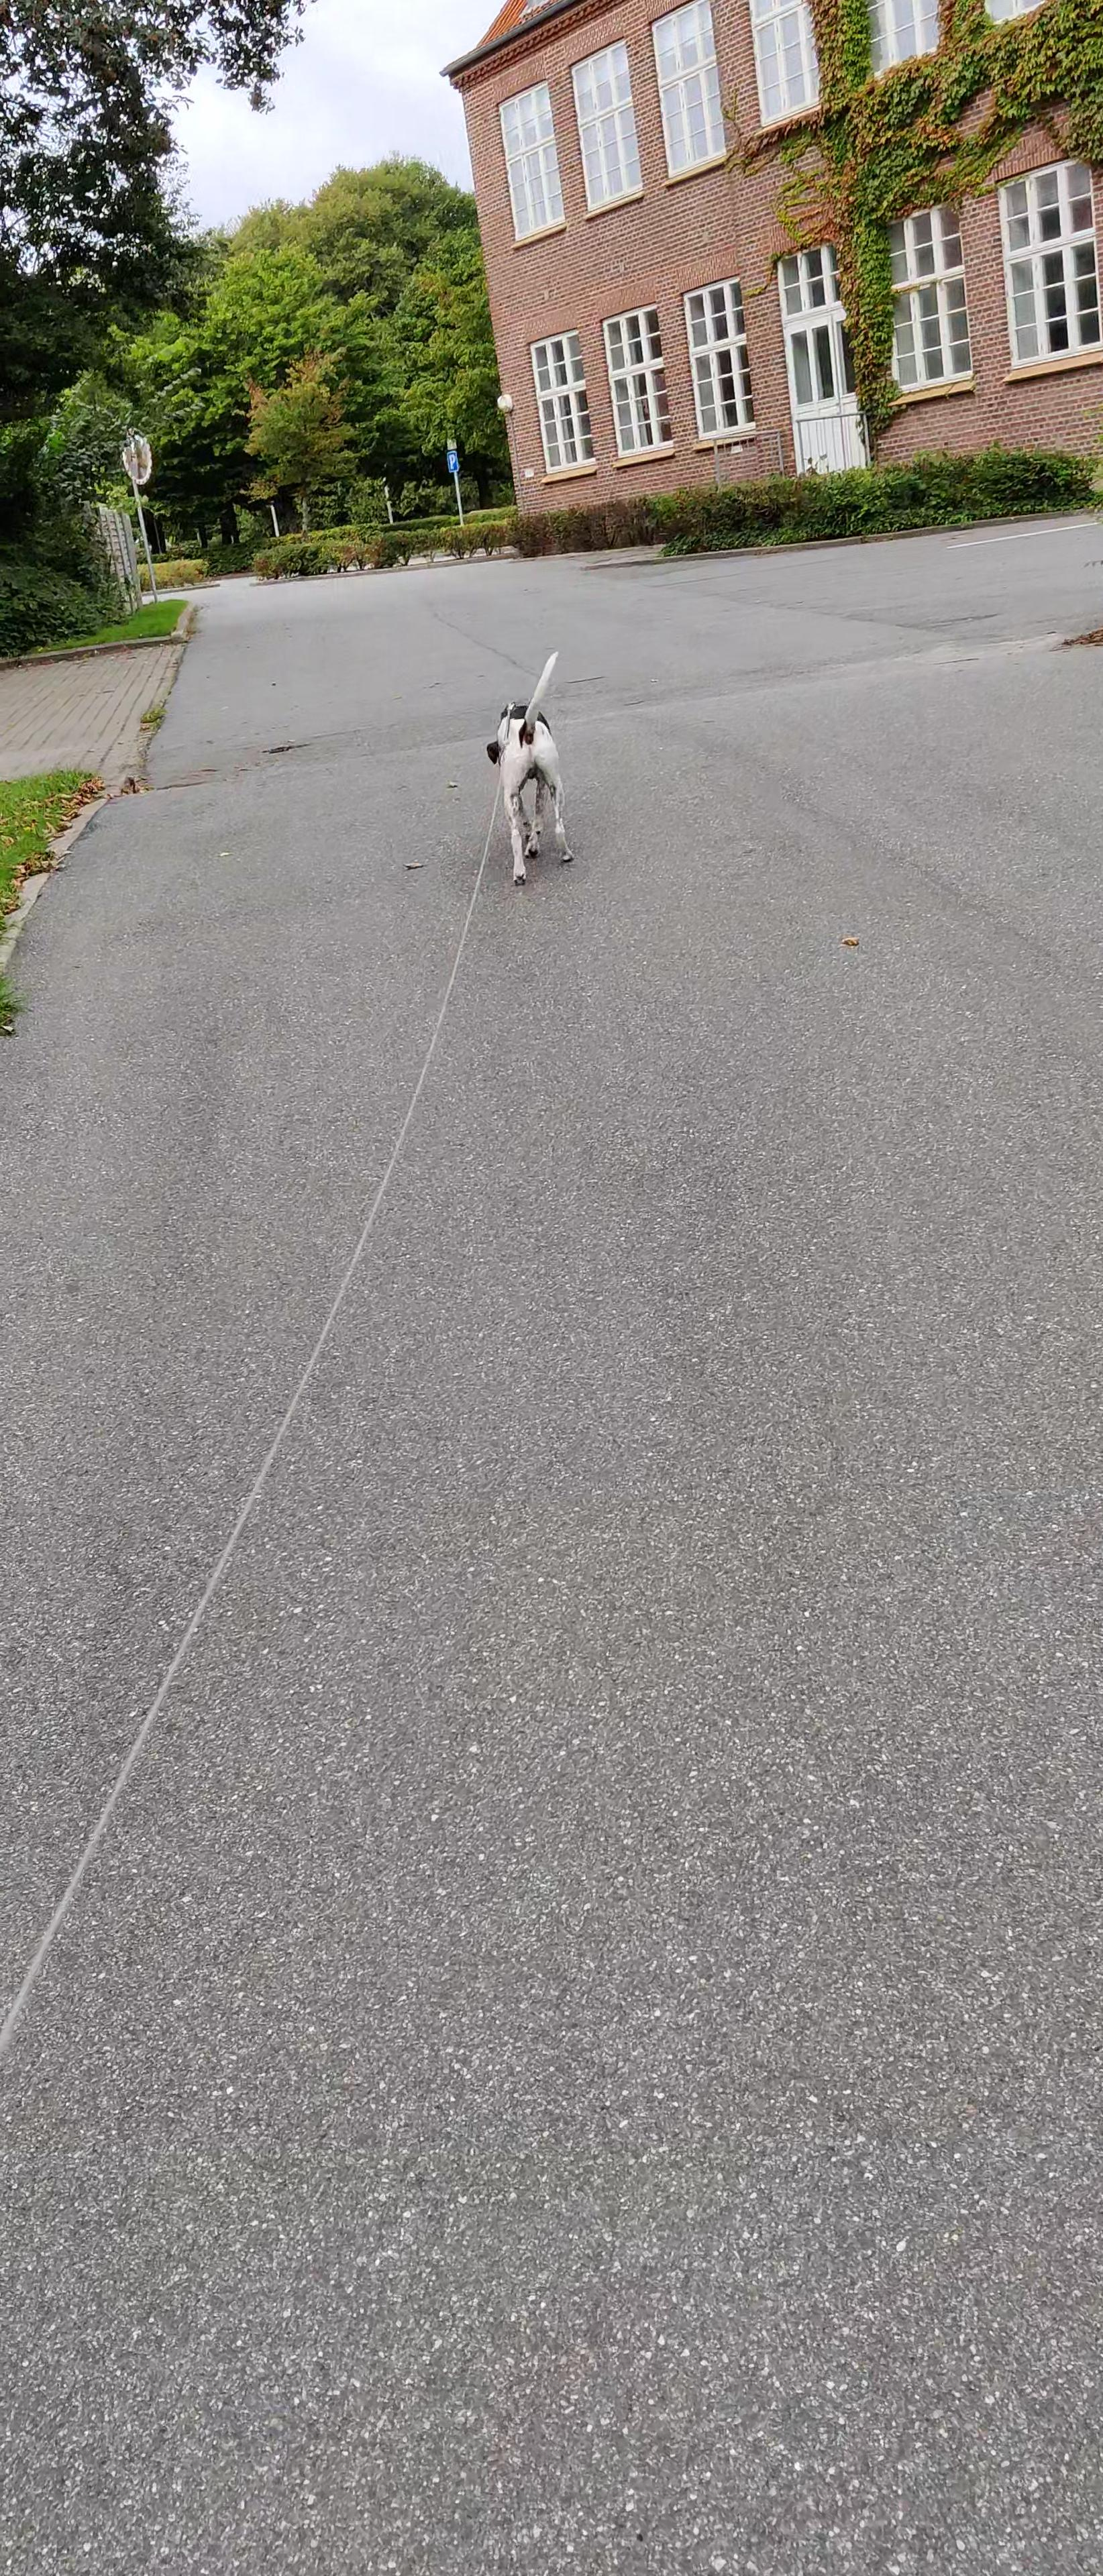Dog: (478, 641, 582, 892)
